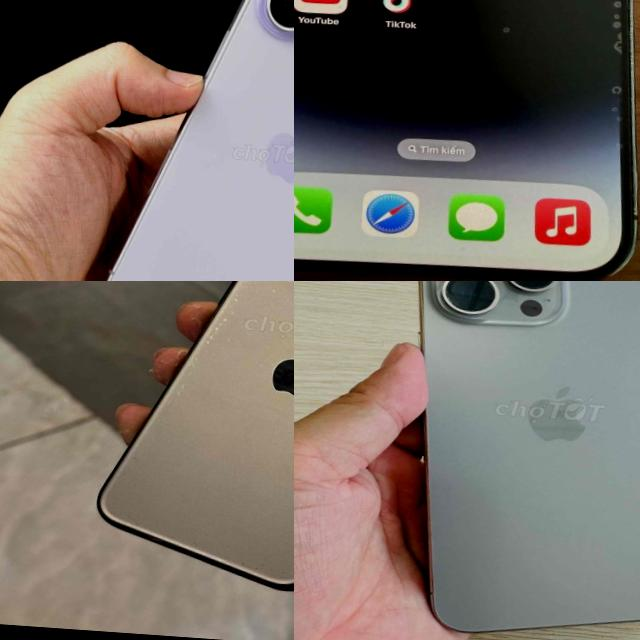gen_11: (91, 281, 294, 602)
gen_14: (294, 0, 640, 281)
gen_15: (370, 281, 640, 640)
gen_17: (106, 0, 294, 281)
scratch: (156, 291, 244, 397), (424, 281, 566, 322), (294, 45, 320, 98)
screen_defect: (591, 0, 640, 130), (486, 12, 524, 46)
